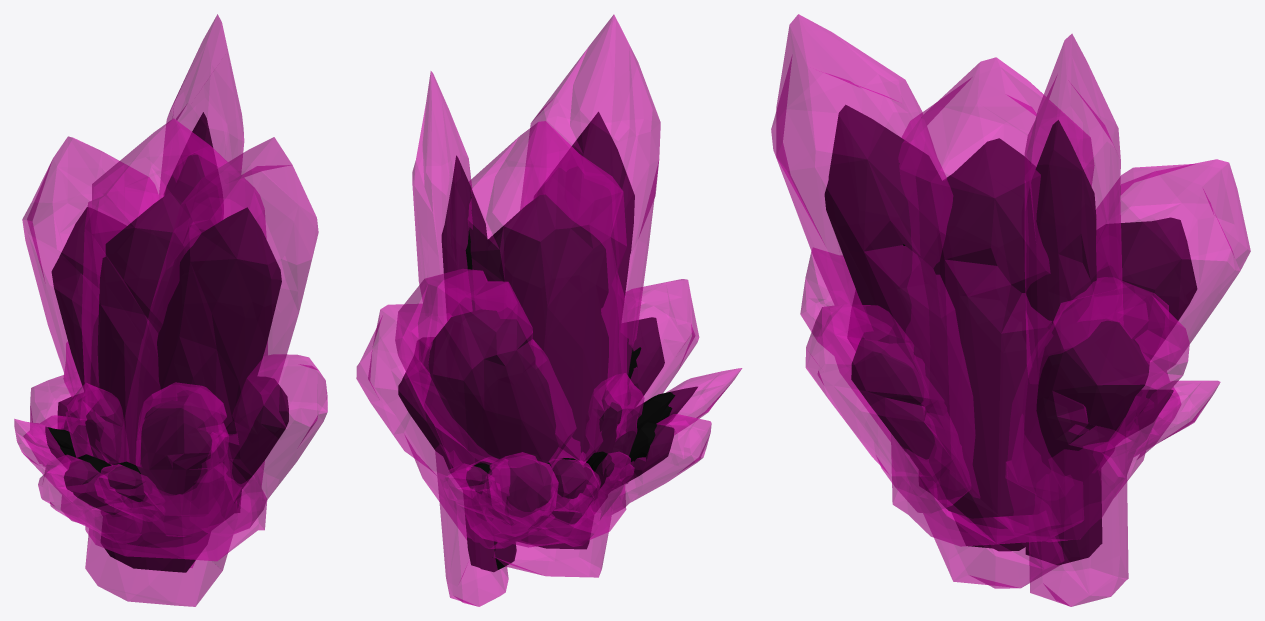
The model's file is Crystal_Cylinder.fbx.
3 views of the same model, side by side, from view 1: azimuth 30°, elevation 25°; view 2: azimuth 150°, elevation 25°; view 3: azimuth 270°, elevation 25° (orthographic). The views are drawn at different scales.
Parts seen in each view (by area): view 1: pCylinder22; view 2: pCylinder22; view 3: pCylinder22.
Part boxes in pixels (left/top/right/bottom): pCylinder22: left=14, top=14, right=327, bottom=606; pCylinder22: left=356, top=14, right=741, bottom=606; pCylinder22: left=771, top=14, right=1250, bottom=606.
Size of the model in its own units: 33.42 by 60.49 by 44.64.
